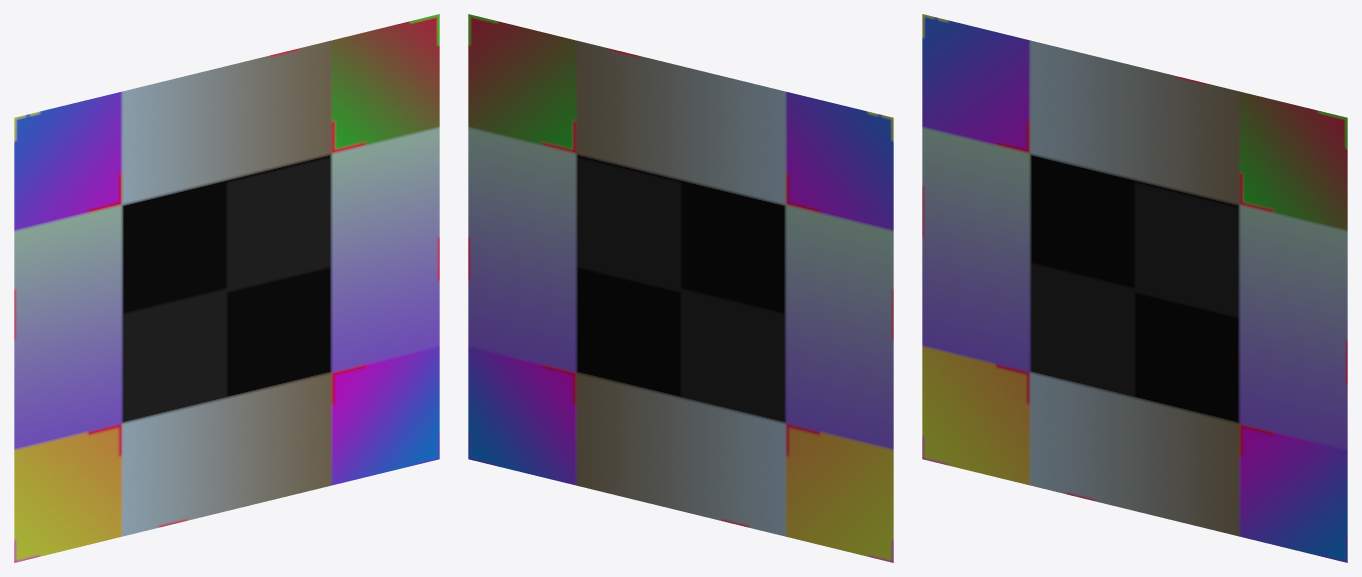
The model's file is quad.FBX.
3 views of the same model, side by side, from view 1: azimuth 30°, elevation 25°; view 2: azimuth 150°, elevation 25°; view 3: azimuth 330°, elevation 25° (orthographic).
Parts seen in each view (by area): view 1: Plane003; view 2: Plane003; view 3: Plane003.
Part boxes in pixels (box(x1,y1,x2,y2)): Plane003: box(14, 14, 439, 562); Plane003: box(468, 14, 893, 562); Plane003: box(922, 14, 1347, 562).
Bounding box in the file's own units: 1 × 1 × 1.24e-06.
1 material, 1 textured.
